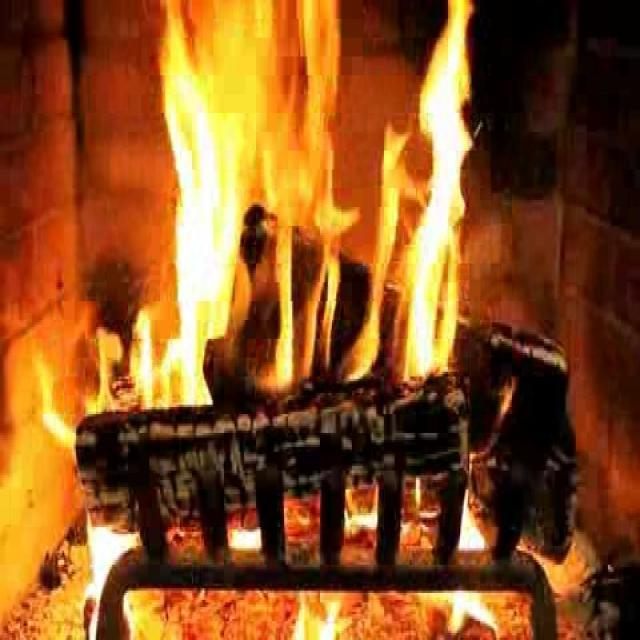Fire: (151, 7, 480, 416)
